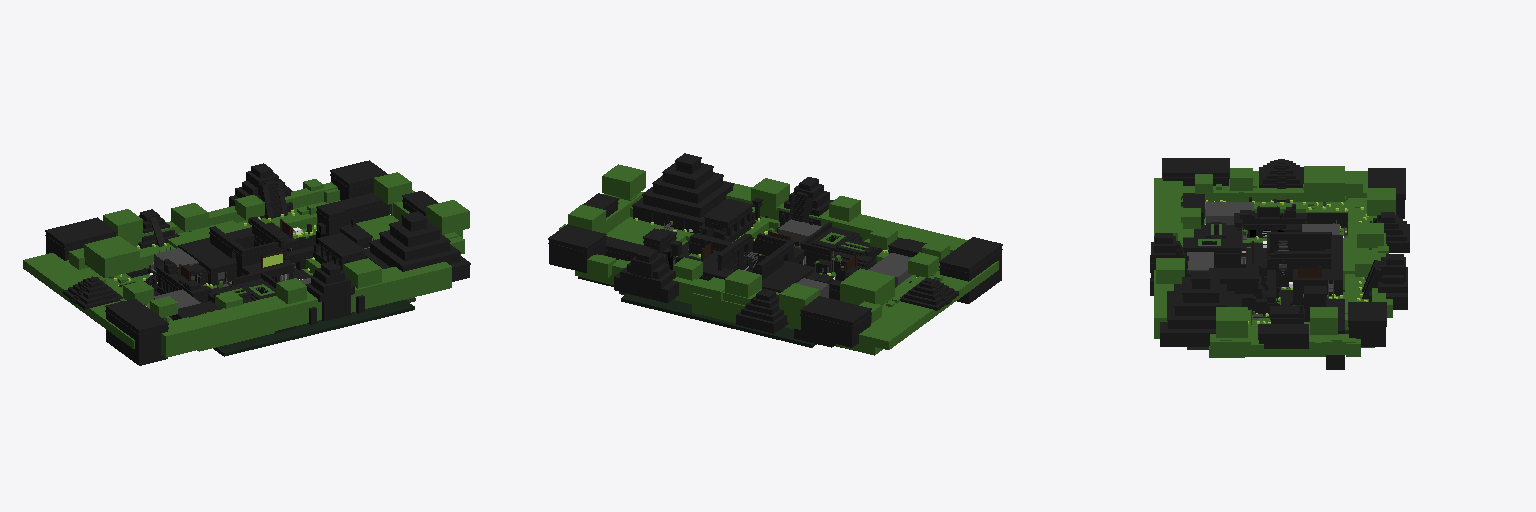
File: Lostworld.obj
3 views of the same model, side by side, from view 1: azimuth 30°, elevation 25°; view 2: azimuth 150°, elevation 25°; view 3: azimuth 270°, elevation 25° (orthographic).
Bounding box in the file's own units: 1147 × 234 × 708.